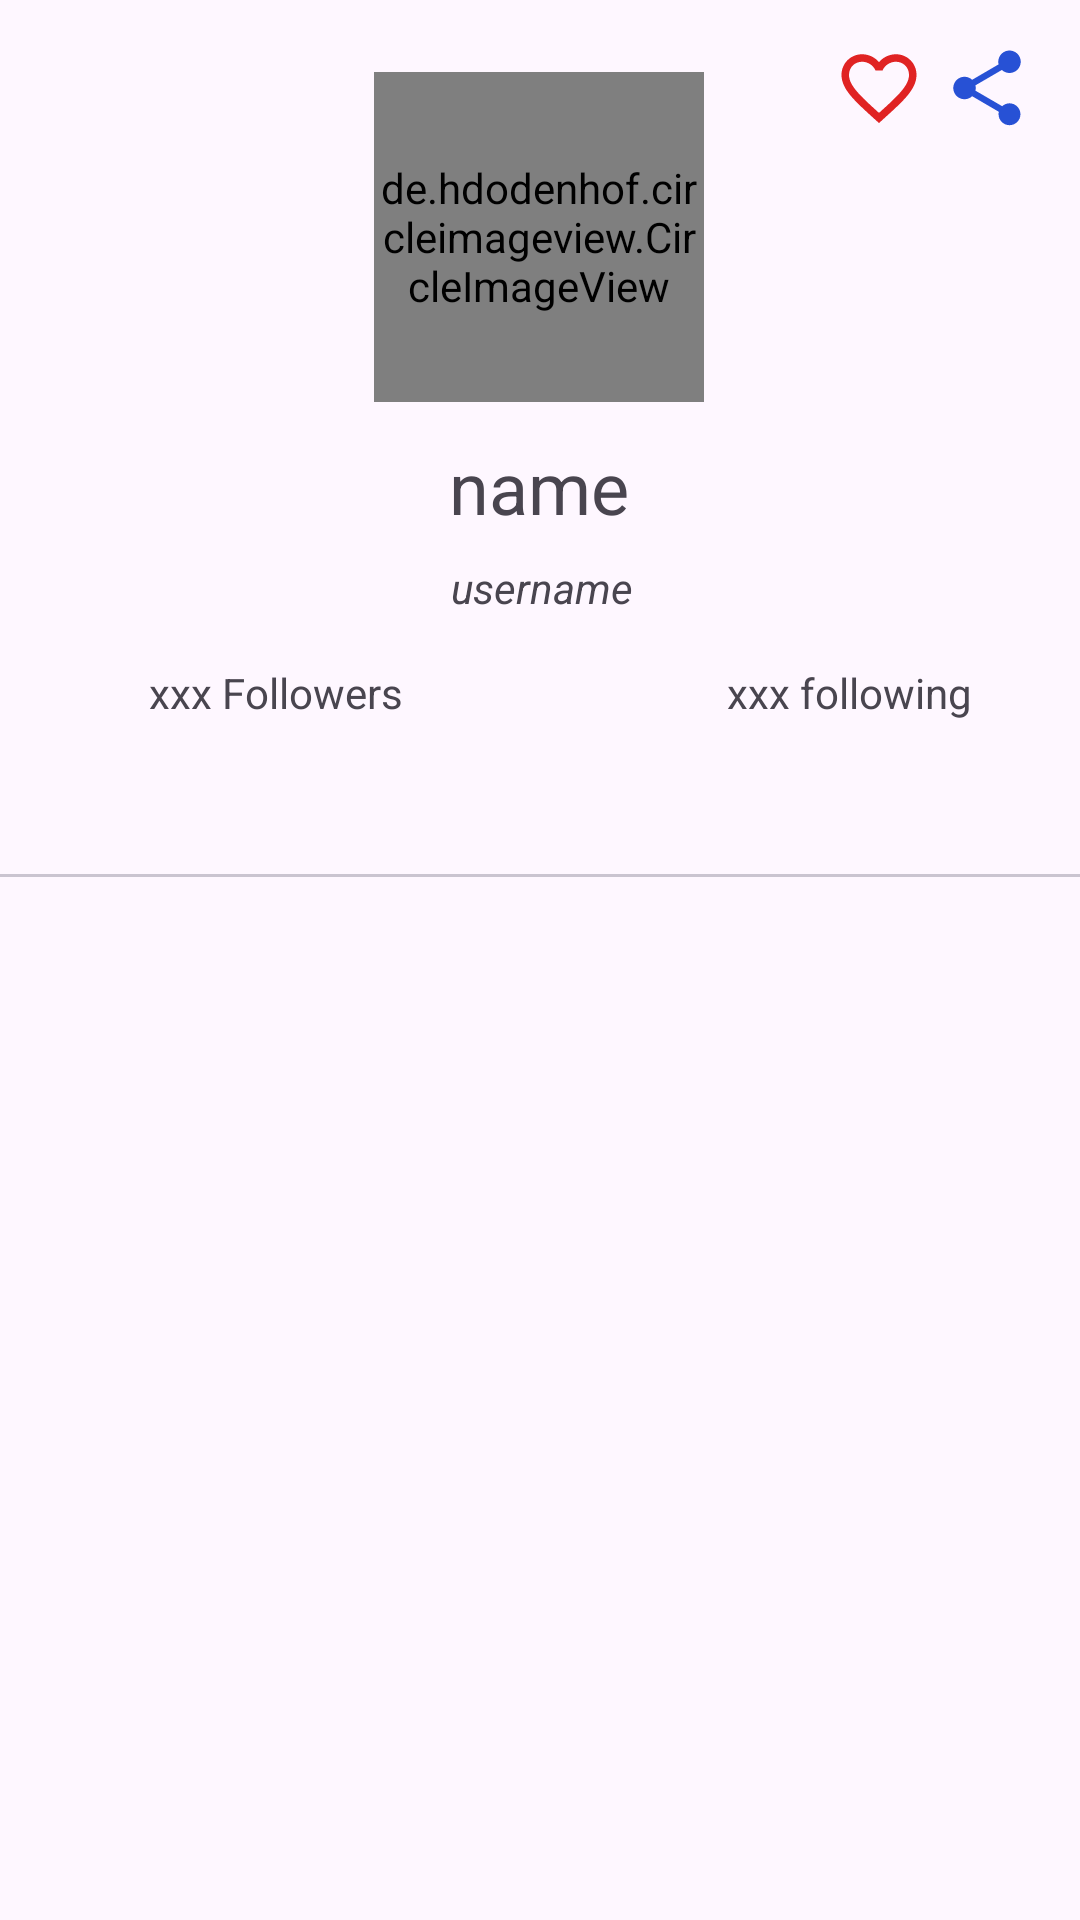

Named icons in this screenshot (1080*1920) and their bounding boxes, (x1, y1, x2, y2):
favorite border: (841, 54, 917, 123)
share: (953, 50, 1021, 126)
